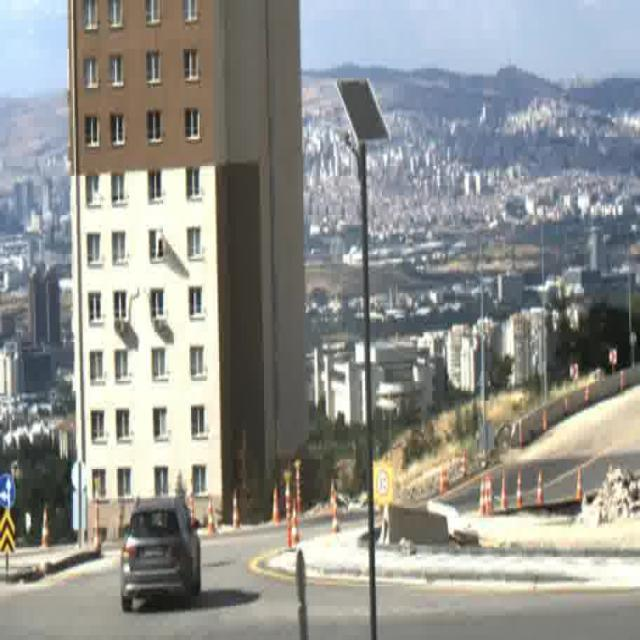Car: (121, 495, 201, 615)
